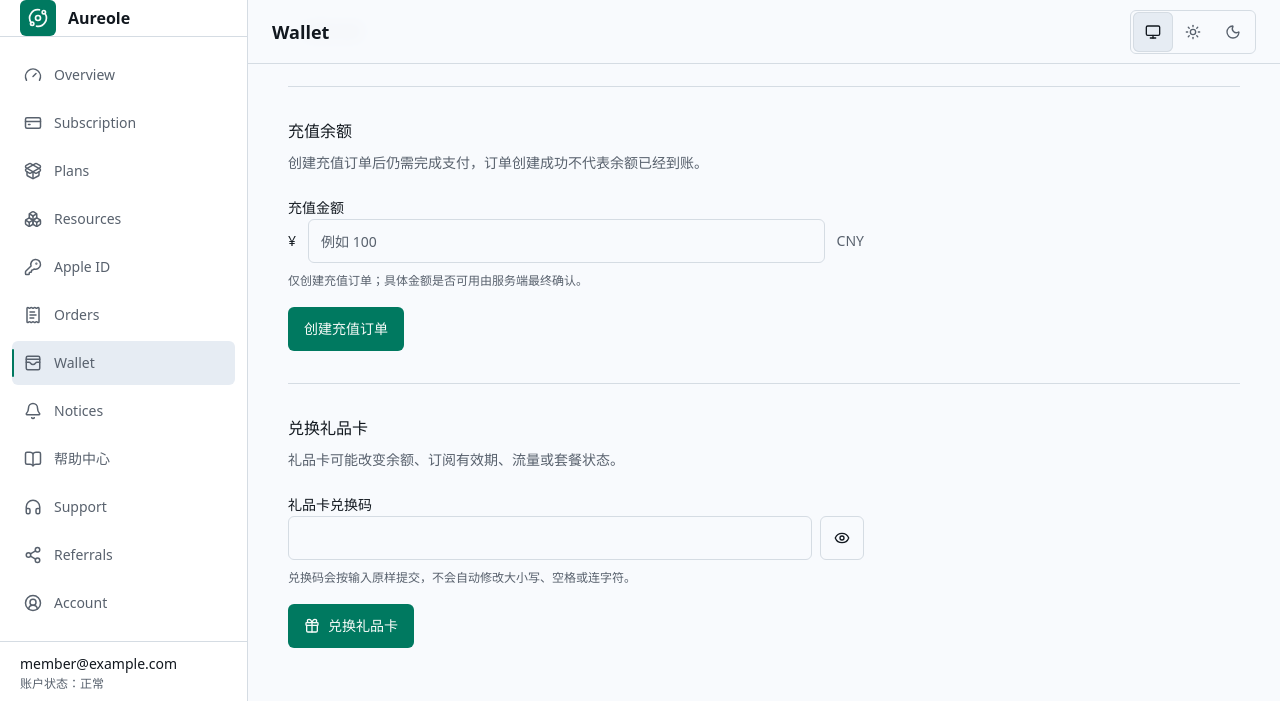
Test case: Gift Card confirmation and privacy › rejects code length  before confirmation
This screenshot has width=1280, height=701.
(page scrolled)
Check: the password field labelled "礼品卡兑换码" is enabled, box [288,516,812,560]
Click the button "兑换礼品卡". click: (351, 626)
box: [288,604,414,648]
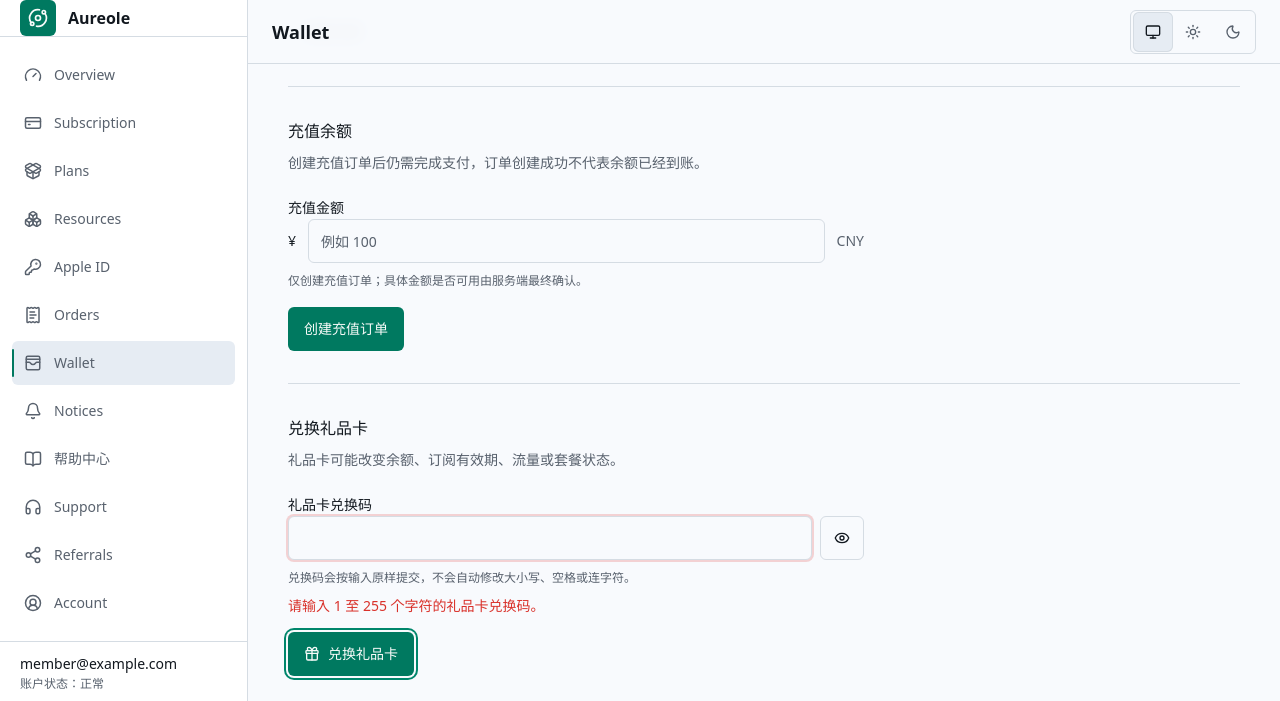
Check: the text "请输入 1 至 255 个字符的礼品卡兑换码。" is shown, box [288,596,545,615]
